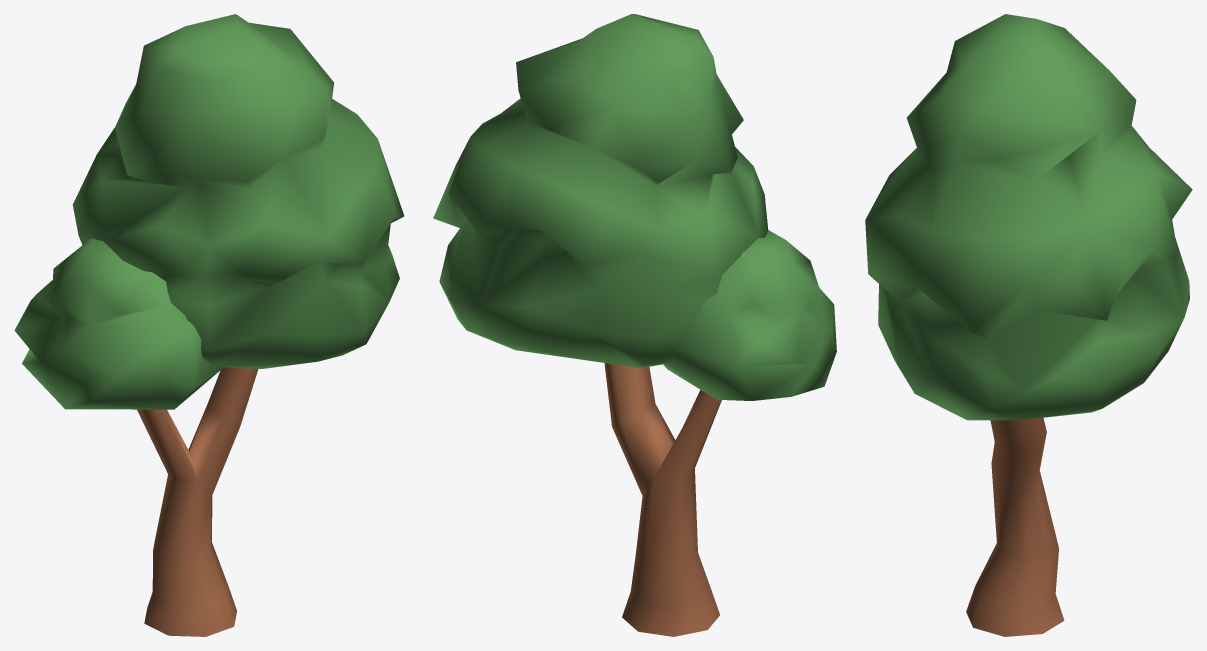
File: Tree1.fbx
3 renders of one model, left to right at view 1: azimuth 30°, elevation 25°; view 2: azimuth 150°, elevation 25°; view 3: azimuth 270°, elevation 25°, orthographic. The views are drawn at different scales.
Parts seen in each view (by area): view 1: Tree1; view 2: Tree1; view 3: Tree1.
Boxes of the visible parts, bbox=[...] form: Tree1: bbox=[14, 14, 404, 636]; Tree1: bbox=[433, 14, 836, 636]; Tree1: bbox=[865, 14, 1192, 636].
Size of the model in its own units: 399 by 629 by 311.
